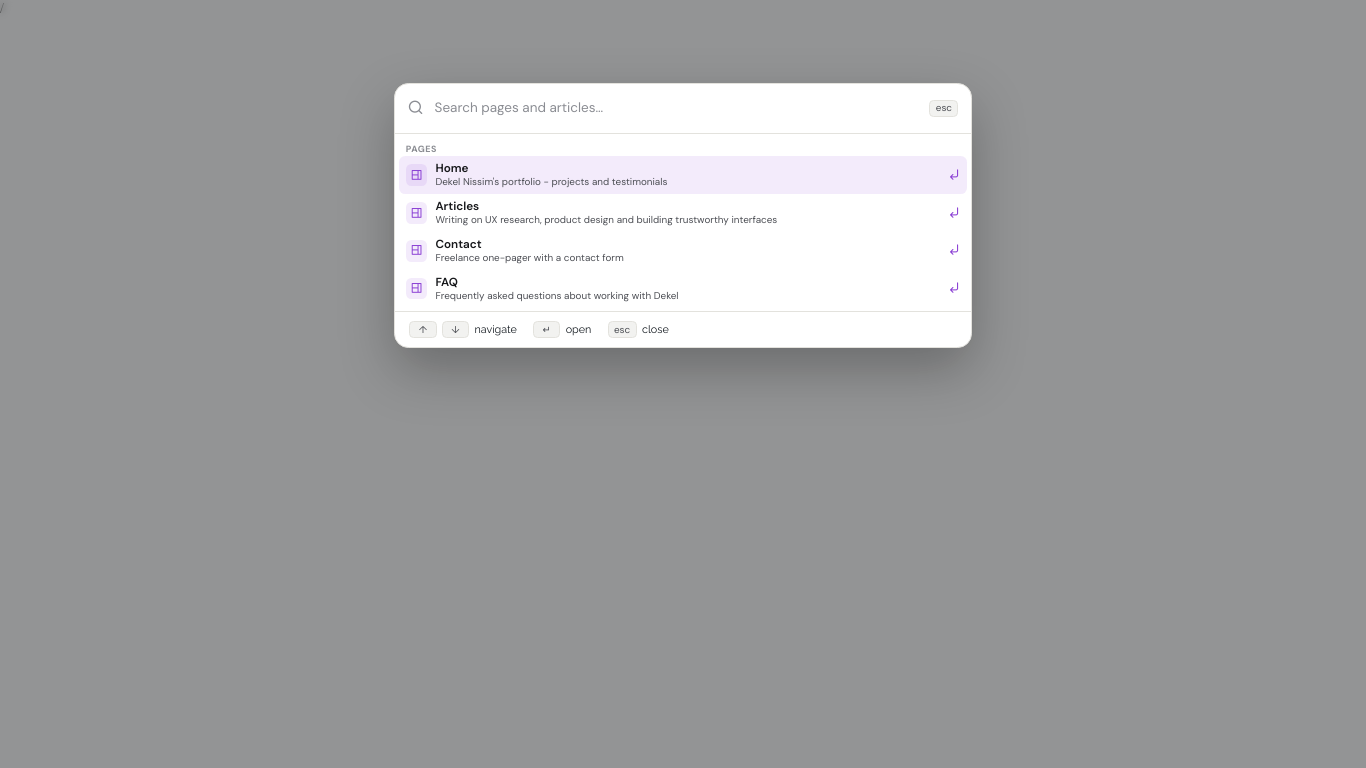
Test: SearchDialog › navigates to the active result on Enter
The width and height of the screenshot is (1366, 768).
Type "marketer" into the dropdown at (677, 108), box x1=433 y1=93 x2=920 y2=124
Then press Enter
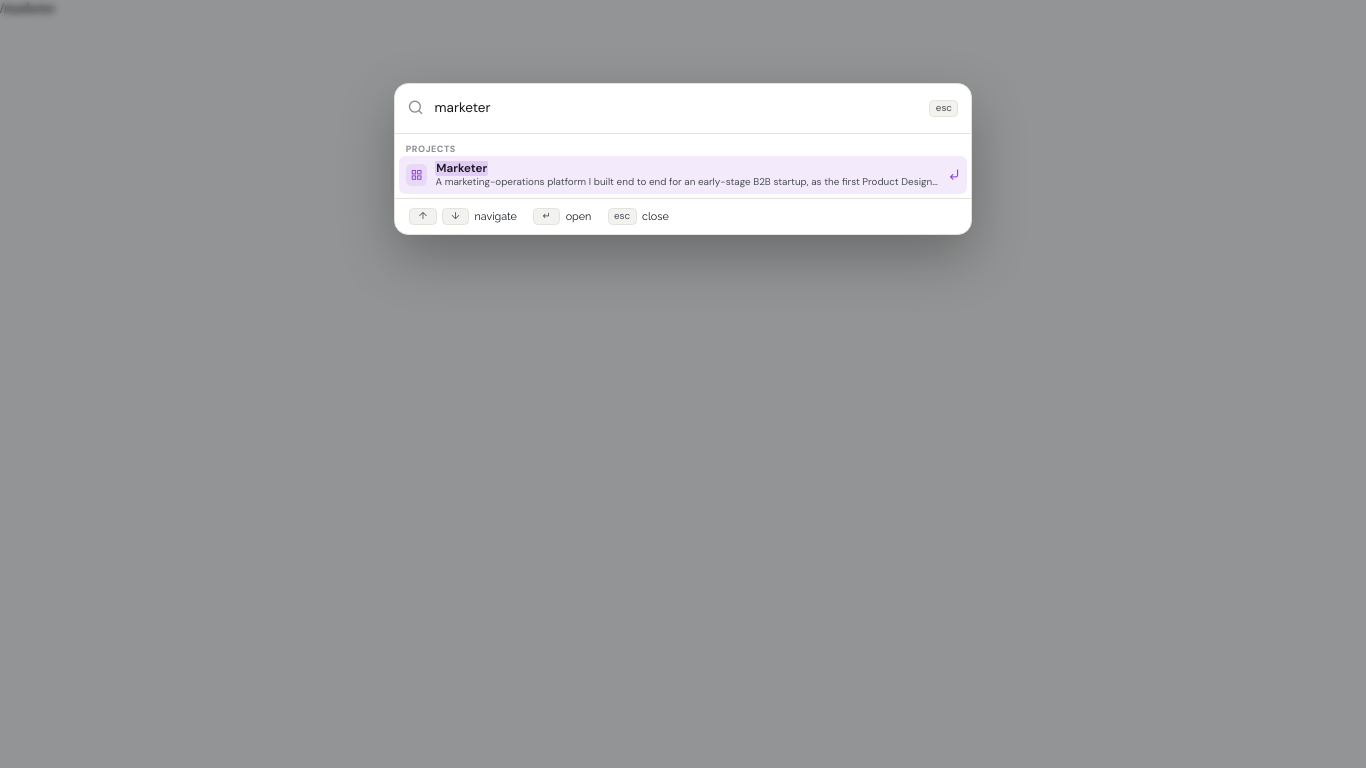
Now the text with test id "location" reads "/marketer", box x1=0 y1=0 x2=55 y2=16
